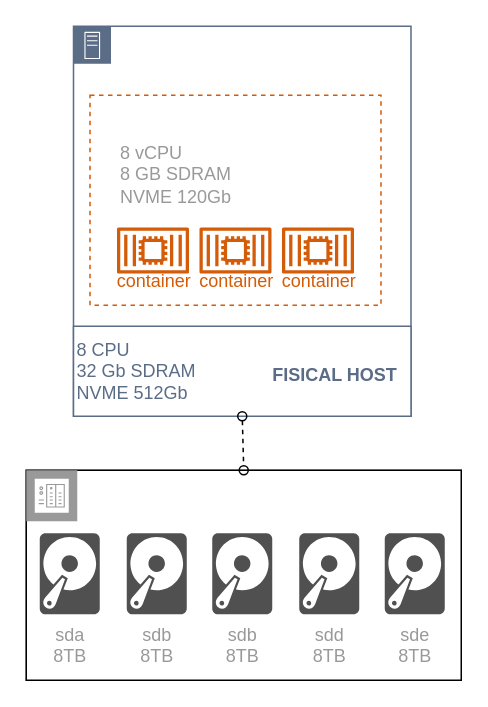
The diagram is 488 pixels wide and 707 high, and some of its shapes have lost their labels. Each missing label, with the box of its shape:
OpenZFS: (25, 469, 461, 680)
Proxmox: (72, 25, 411, 416)
Virtual Machine: (88, 94, 381, 305)
